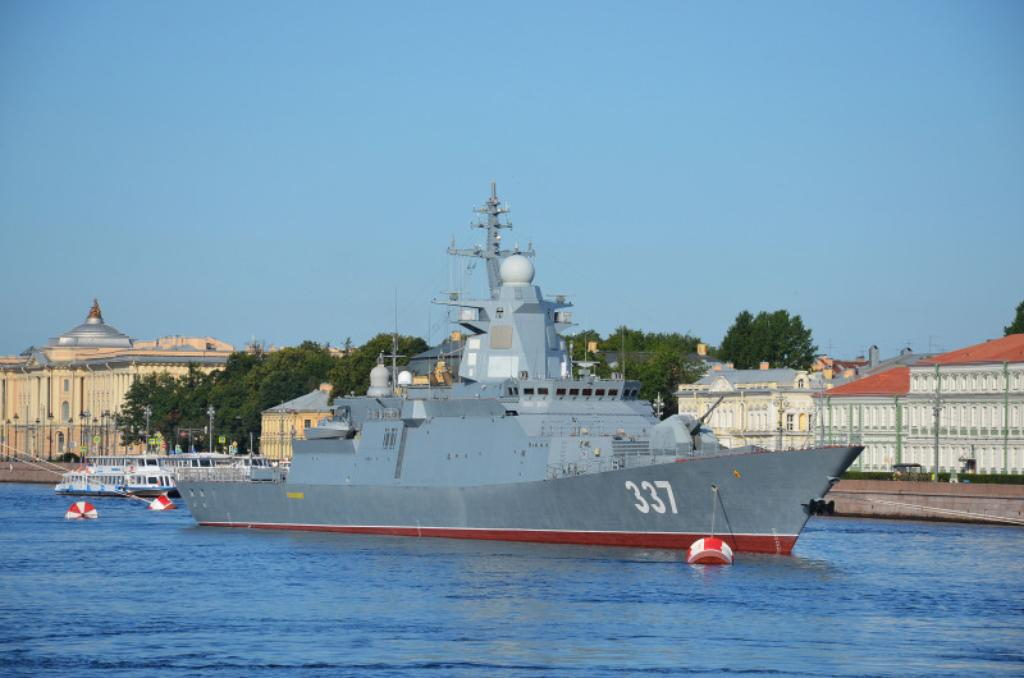Warship: (182, 180, 866, 558)
